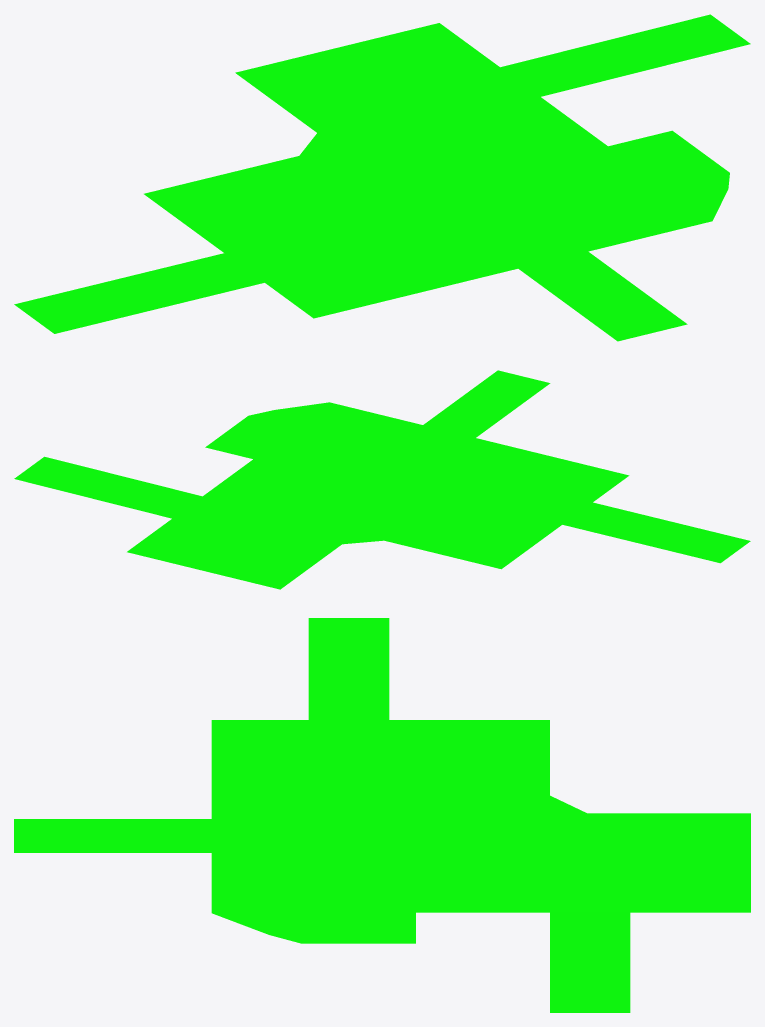
Rendered from s05a_td1-floor.glb.
3 renders of one model, top to bottom at view 1: azimuth 30°, elevation 25°; view 2: azimuth 150°, elevation 25°; view 3: azimuth 270°, elevation 25°, orthographic. The views are drawn at different scales.
Visible parts, largest first — view 1: collision_floor-colonly; view 2: collision_floor-colonly; view 3: collision_floor-colonly.
Part boxes in pixels (x1,y1,x2,y2): collision_floor-colonly: [14, 14, 750, 341]; collision_floor-colonly: [14, 370, 750, 589]; collision_floor-colonly: [14, 618, 750, 1012].
Bounding box in the file's own units: 70 × 0.125 × 55.
